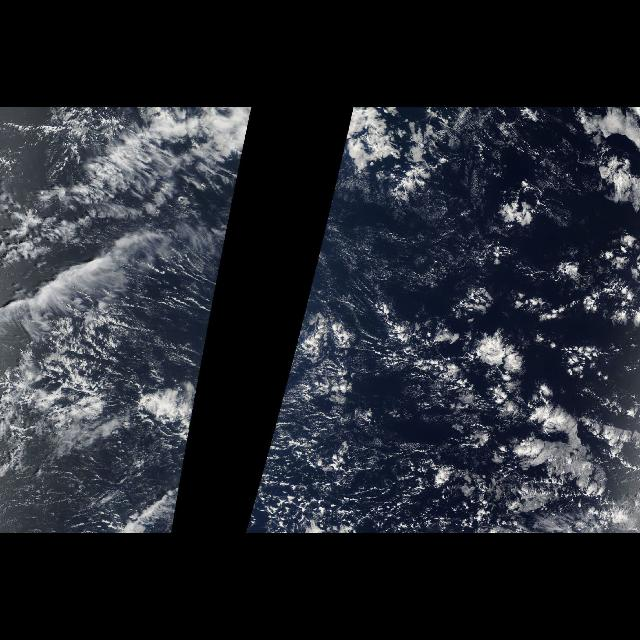Flower: (480, 160, 640, 488)
Gravel: (245, 335, 478, 533), (168, 335, 208, 533)
